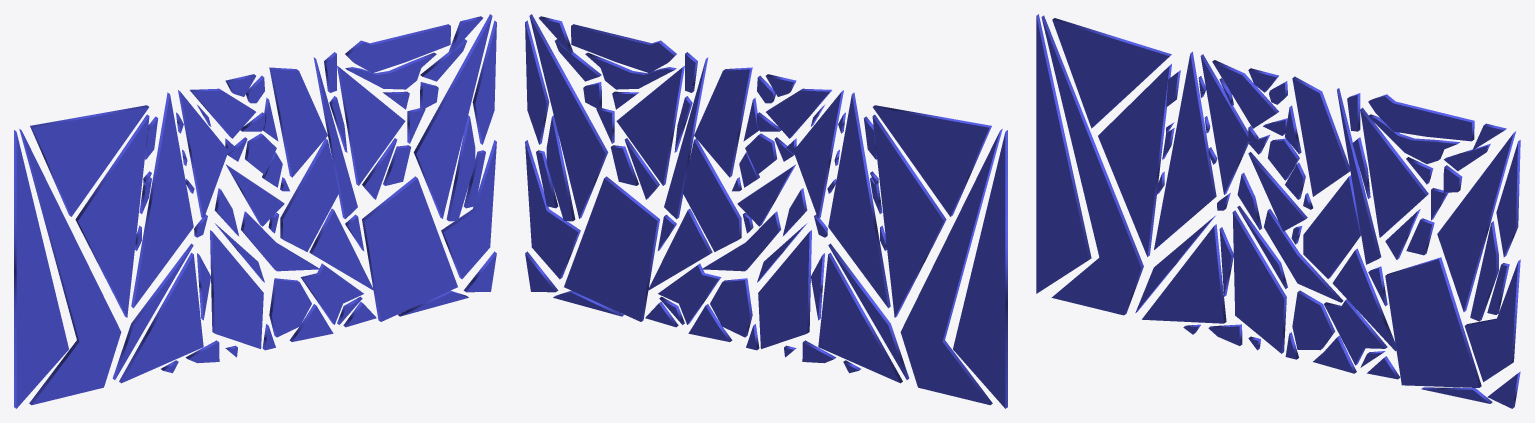
Rendered from glass.glb.
3 views of the same model, side by side, from view 1: azimuth 30°, elevation 25°; view 2: azimuth 150°, elevation 25°; view 3: azimuth 330°, elevation 25° (orthographic).
Visible parts, largest first — view 1: Curve.067; view 2: Curve.067; view 3: Curve.067.
Boxes of the visible parts, x1,y1,x2,y2 form: Curve.067: [14, 14, 496, 408]; Curve.067: [525, 14, 1007, 408]; Curve.067: [1036, 14, 1520, 408].
Bounding box in the file's own units: 2.21 × 1.25 × 0.02.
